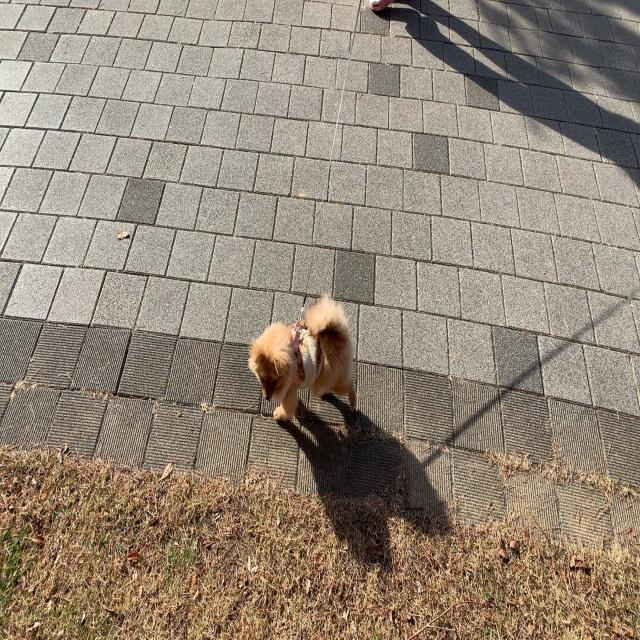Dog: (247, 289, 360, 424)
